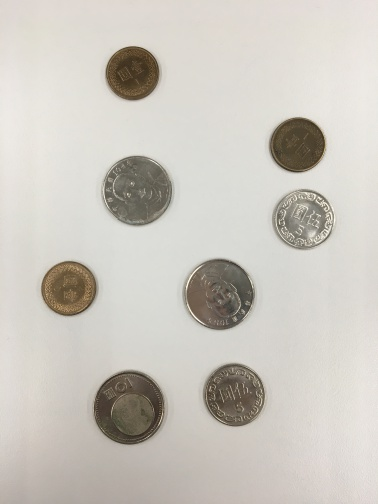1 dollar: (30, 249, 116, 331), (88, 35, 177, 108), (255, 102, 335, 178)
10 dollar: (88, 143, 191, 237), (173, 246, 269, 342), (84, 361, 177, 453)
5 dollar: (194, 355, 277, 431), (262, 184, 343, 255)
